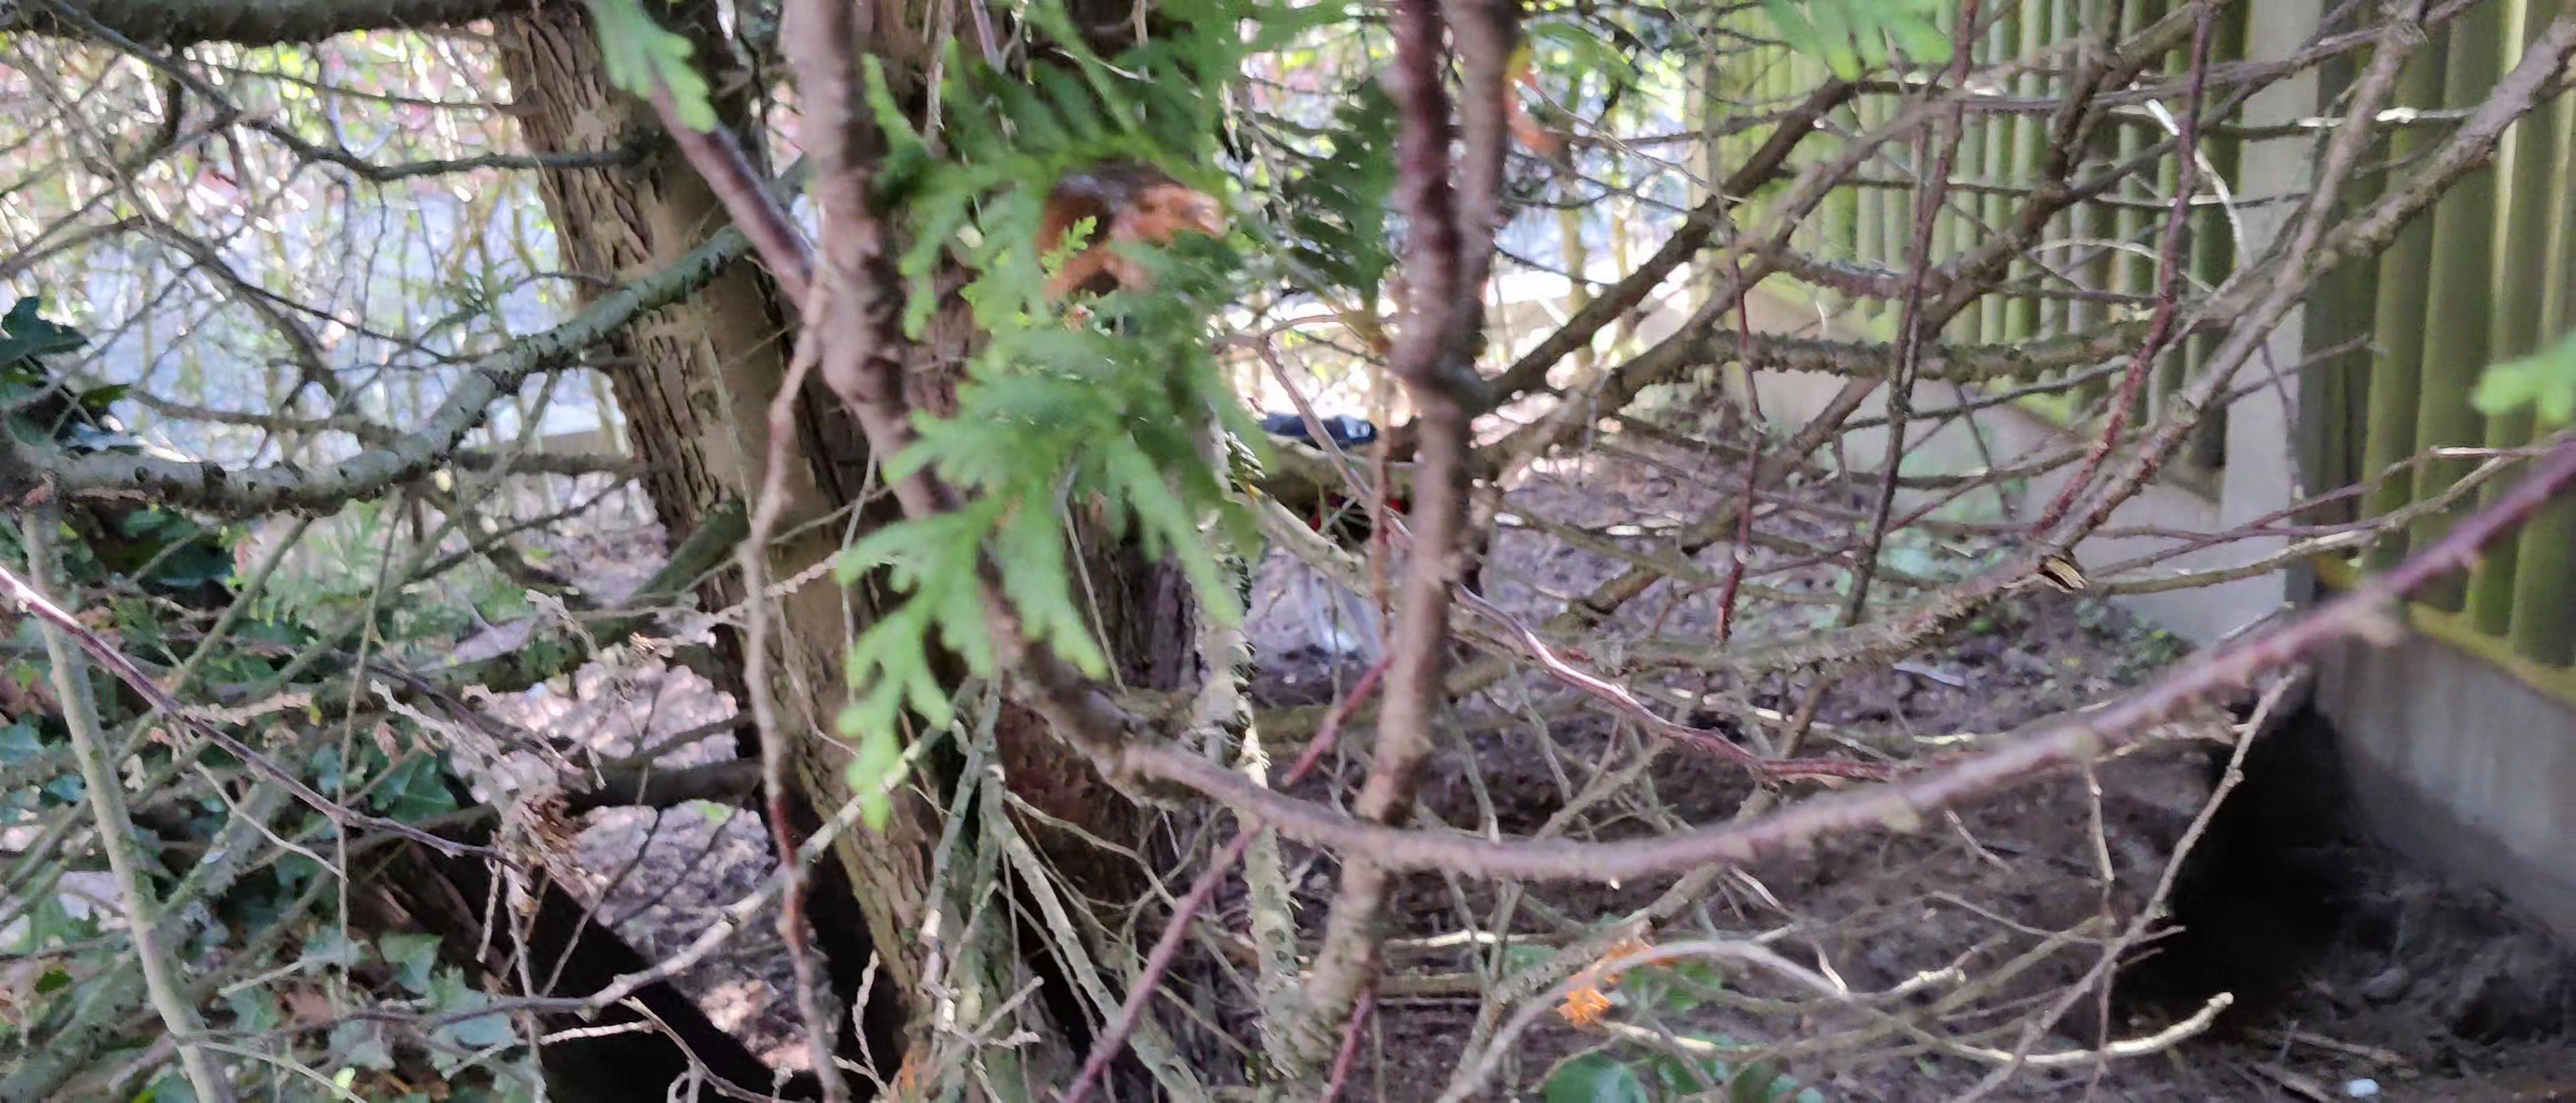Dog: (1217, 388, 1480, 685)
